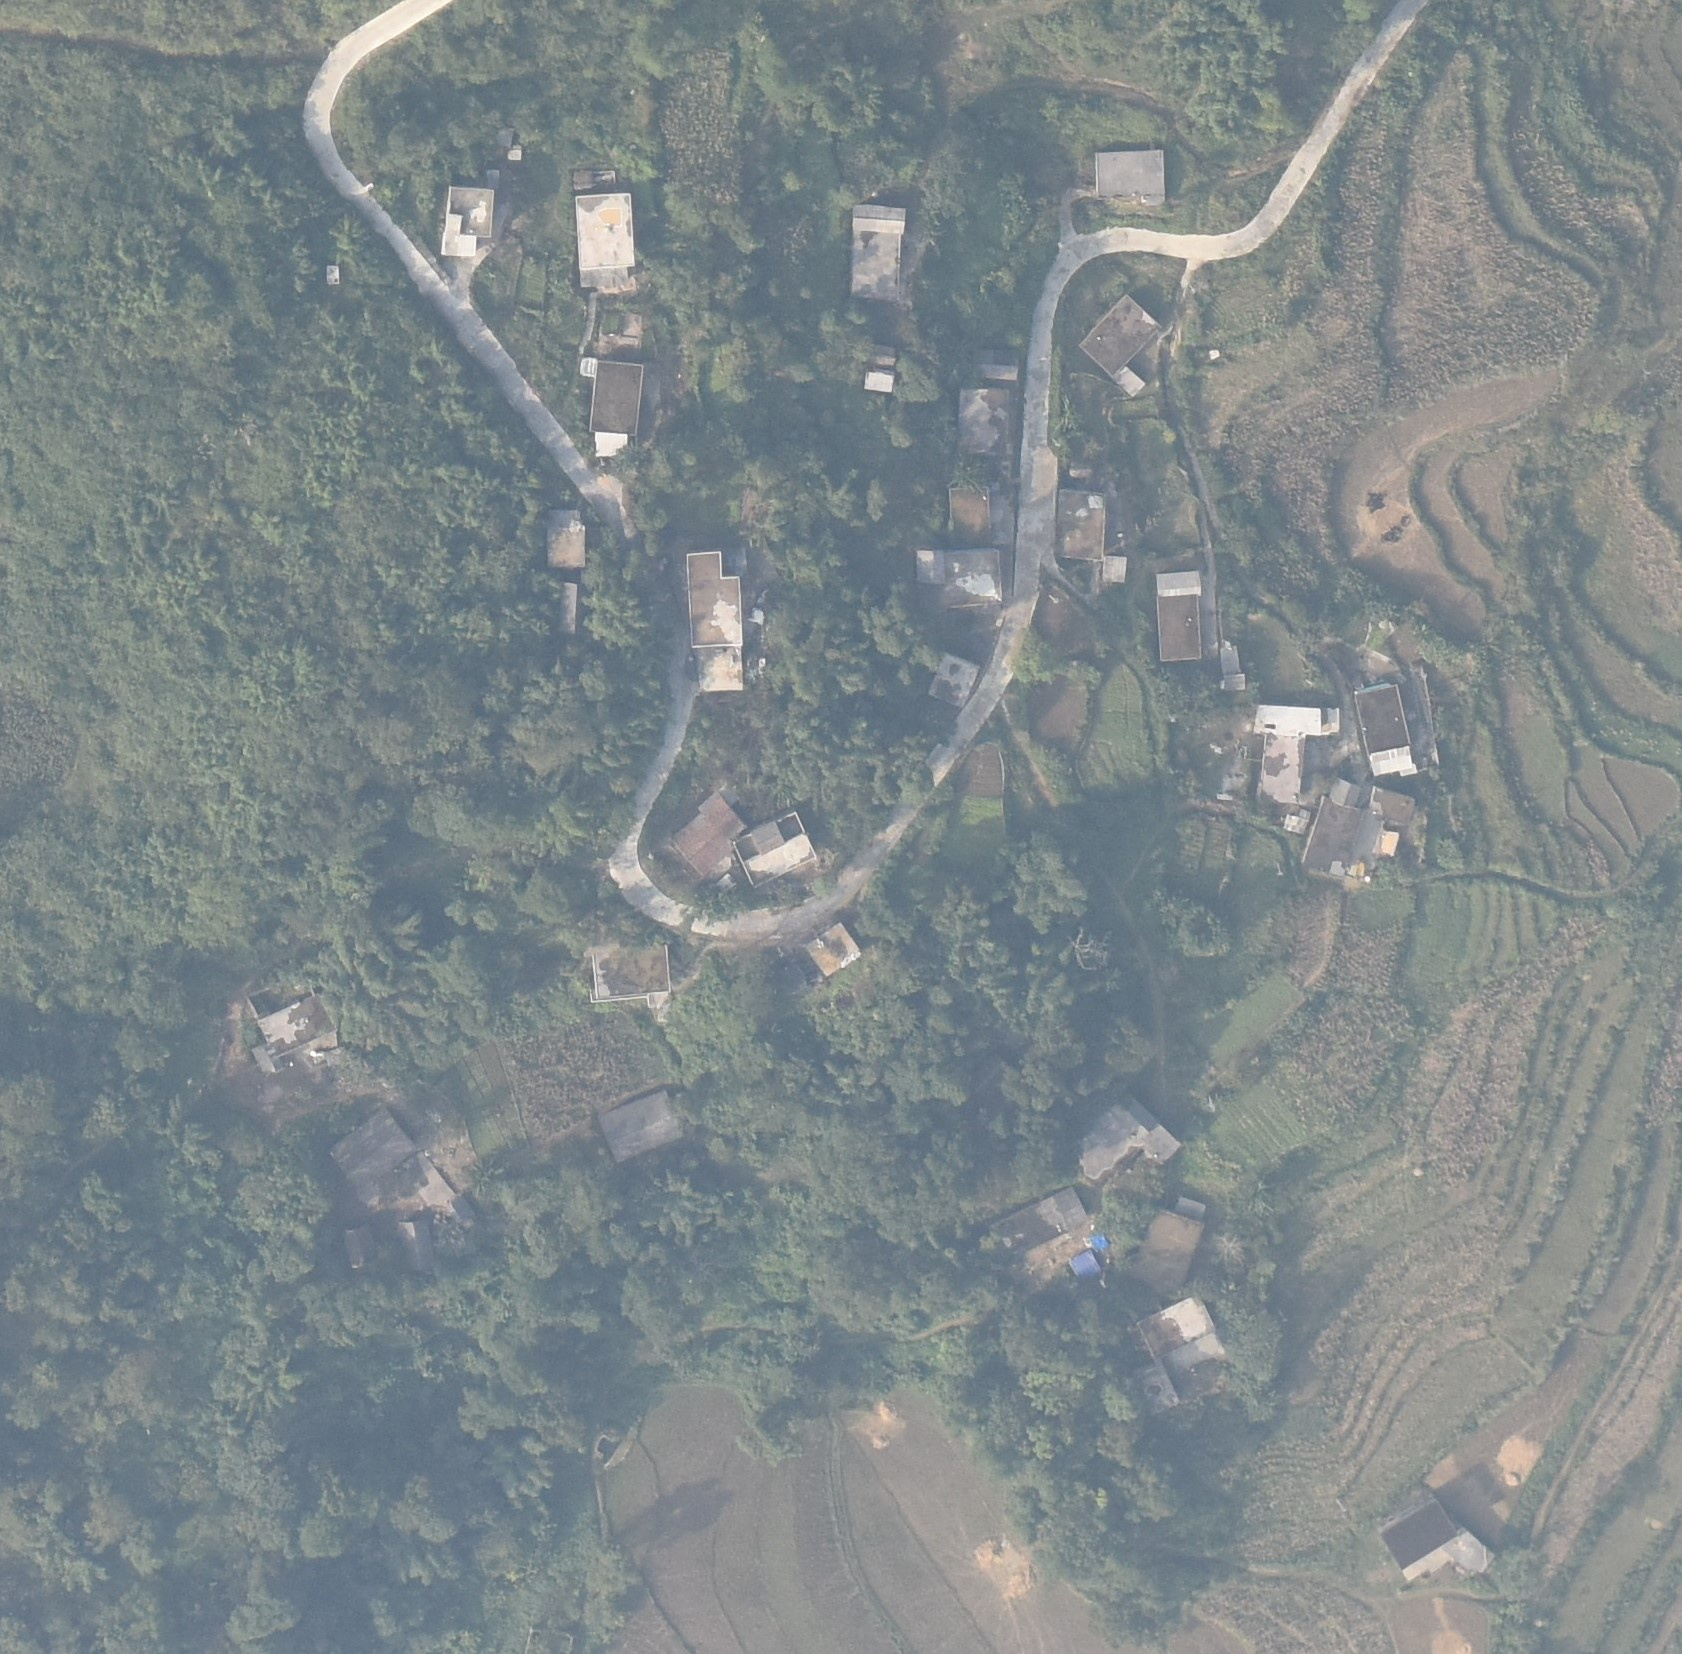building: (977, 1178, 1102, 1259), (1074, 1097, 1182, 1186), (1071, 289, 1158, 382), (327, 1109, 420, 1194), (1376, 1498, 1465, 1583), (677, 542, 746, 653), (1346, 679, 1420, 780), (577, 941, 676, 1016), (733, 813, 830, 889), (571, 189, 644, 289), (252, 995, 336, 1075), (955, 377, 1021, 474), (600, 1091, 685, 1166), (1140, 1204, 1203, 1298), (843, 226, 911, 312), (1136, 1294, 1218, 1362), (1146, 589, 1211, 674), (436, 180, 502, 264), (586, 357, 653, 436), (1243, 695, 1344, 747), (668, 804, 736, 880), (1088, 145, 1171, 206), (939, 547, 1011, 615), (939, 483, 1005, 554), (1052, 483, 1108, 565), (536, 507, 599, 577), (1120, 1356, 1183, 1416), (800, 918, 861, 980), (394, 1215, 442, 1284), (1255, 738, 1305, 804), (927, 650, 979, 709), (696, 791, 747, 847), (694, 645, 746, 697), (849, 195, 909, 238), (1365, 785, 1418, 824), (1152, 570, 1206, 604), (339, 1222, 379, 1269), (1109, 360, 1147, 406), (911, 542, 949, 586), (965, 357, 1021, 386), (850, 341, 905, 370), (591, 430, 636, 462), (861, 368, 905, 398), (1096, 551, 1132, 588), (1327, 776, 1358, 809)
prefabricated-house: (1064, 1247, 1108, 1290)
